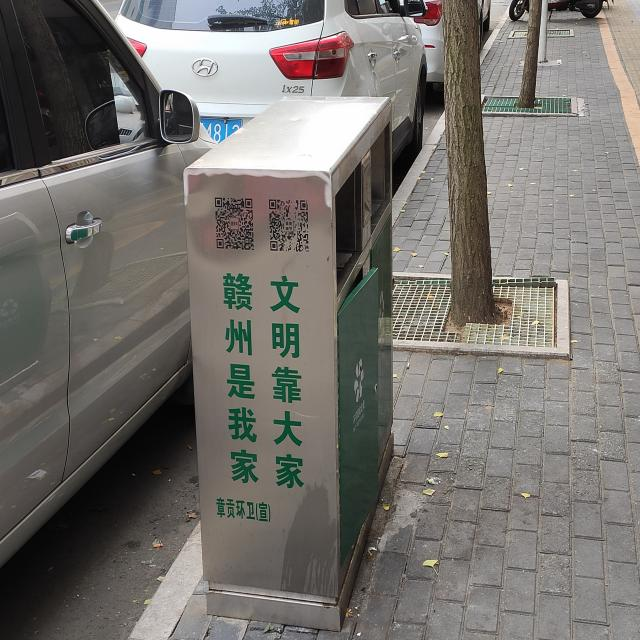ash bin: (183, 92, 400, 633)
car: (2, 3, 210, 567), (113, 0, 427, 170)
